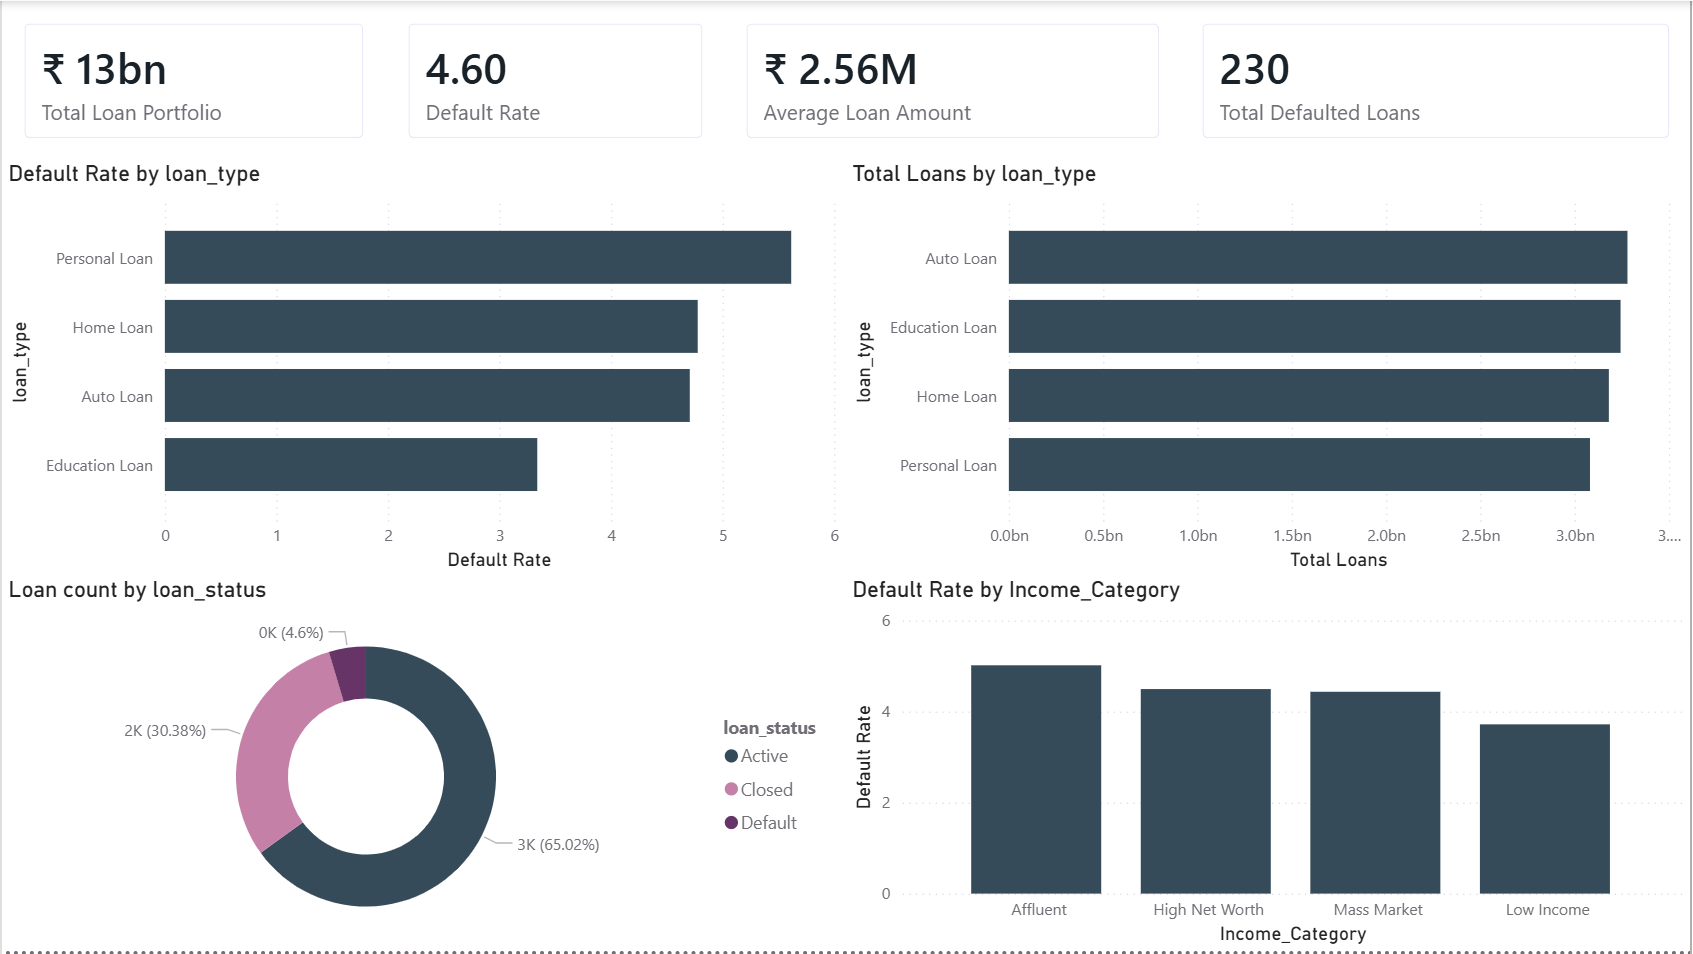

The page's visual inventory and layout, read from the dashboard file:
{"tool":"powerbi","page":{"name":"Loan & Risk Analytics","canvas":[1280,720],"ordinal":2},"visuals":[{"type":"cardVisual","fields":{"Data":["accounts.Total Loan Portfolio"]},"box":[0,0,291.2,121.3],"z":0},{"type":"cardVisual","fields":{"Data":["accounts.Default Rate"]},"box":[291.2,0,257.8,121.3],"z":1},{"type":"cardVisual","fields":{"Data":["loans.Average Loan Amount"]},"box":[547.5,0,347.3,121.3],"z":2},{"type":"cardVisual","fields":{"Data":["accounts.Total Defaulted Loans"]},"box":[893.3,0,388.2,121.3],"z":3},{"type":"clusteredBarChart","fields":{"Category":["loans.loan_type"],"Y":["accounts.Default Rate"]},"box":[0,121.3,640,315.5],"z":4},{"type":"clusteredBarChart","fields":{"Category":["loans.loan_type"],"Y":["loans.Total Loans"]},"box":[640,121.3,640,315.5],"z":5},{"type":"donutChart","fields":{"Category":["loans.loan_status"],"Y":["loans.Loan count"]},"box":[0,436.8,640,283.6],"z":6},{"type":"clusteredColumnChart","fields":{"Category":["customers.Income_Category"],"Y":["accounts.Default Rate"]},"box":[640,436.8,640,283.6],"z":7}]}

Visuals, with their boxes in screenshot pixels (x1, y1, x2, y2), scaled from the page's 1280x720 canvas onto the 1693x954 screenshot:
cardVisual - accounts.Total Loan Portfolio: l=0, t=0, r=385, b=161
cardVisual - accounts.Default Rate: l=385, t=0, r=726, b=161
cardVisual - loans.Average Loan Amount: l=724, t=0, r=1184, b=161
cardVisual - accounts.Total Defaulted Loans: l=1182, t=0, r=1692, b=161
clusteredBarChart - loans.loan_type x accounts.Default Rate: l=0, t=161, r=846, b=579
clusteredBarChart - loans.loan_type x loans.Total Loans: l=846, t=161, r=1692, b=579
donutChart - loans.loan_status x loans.Loan count: l=0, t=579, r=846, b=953
clusteredColumnChart - customers.Income_Category x accounts.Default Rate: l=846, t=579, r=1692, b=953
